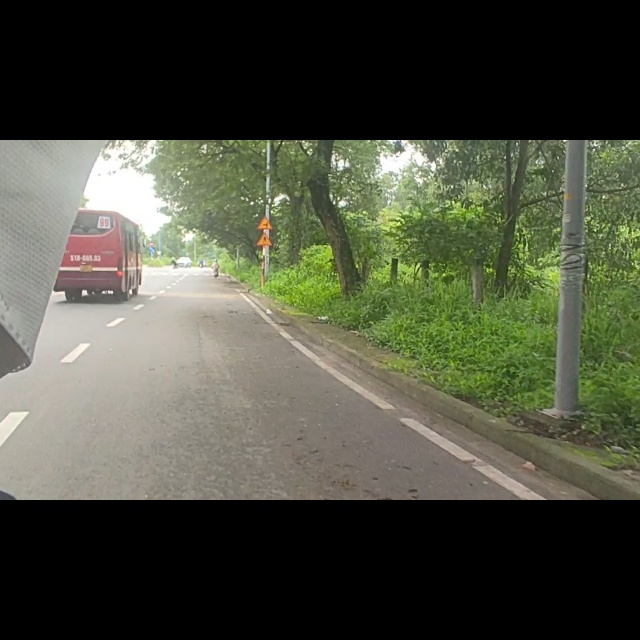bien_nguy_hiem: (257, 134, 281, 156), (256, 166, 277, 187)
